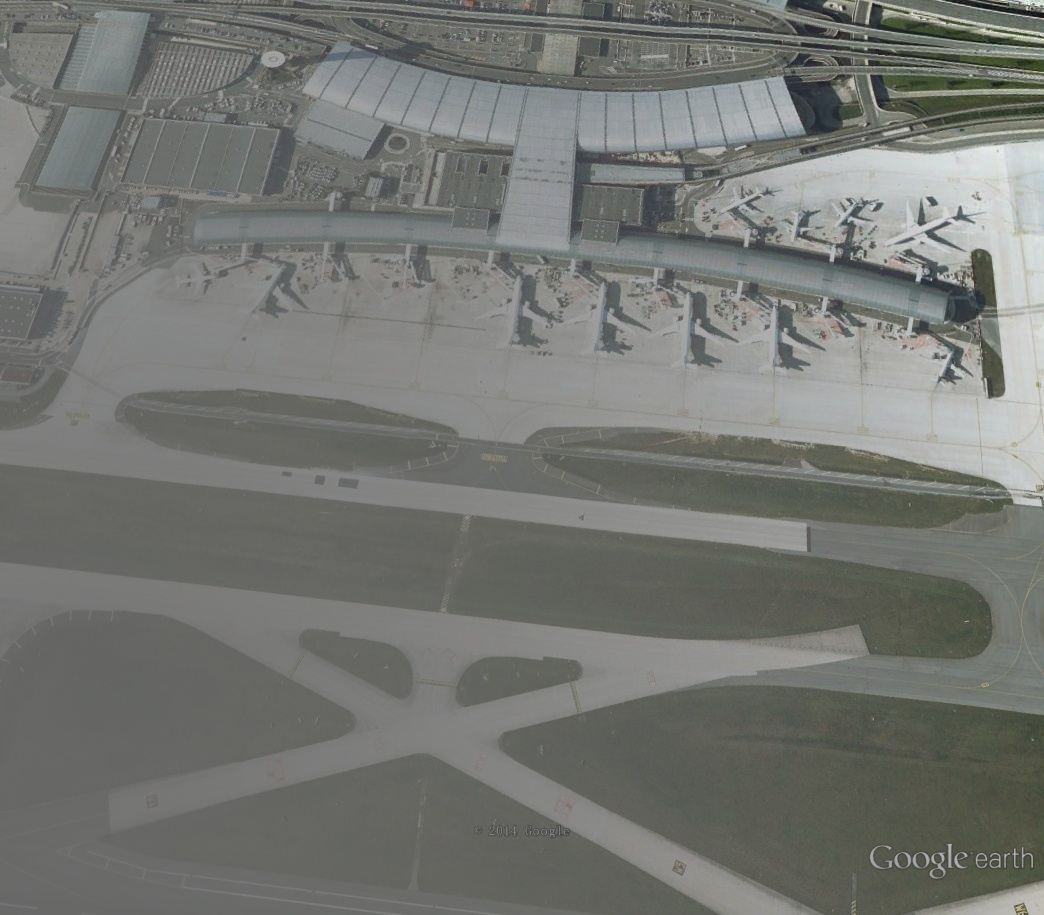aircraft: (645, 287, 725, 376), (473, 271, 553, 355), (560, 278, 639, 361), (737, 305, 816, 381), (885, 200, 967, 258), (231, 263, 296, 325), (171, 261, 220, 298), (829, 197, 881, 231), (721, 185, 771, 218), (780, 210, 820, 244)
